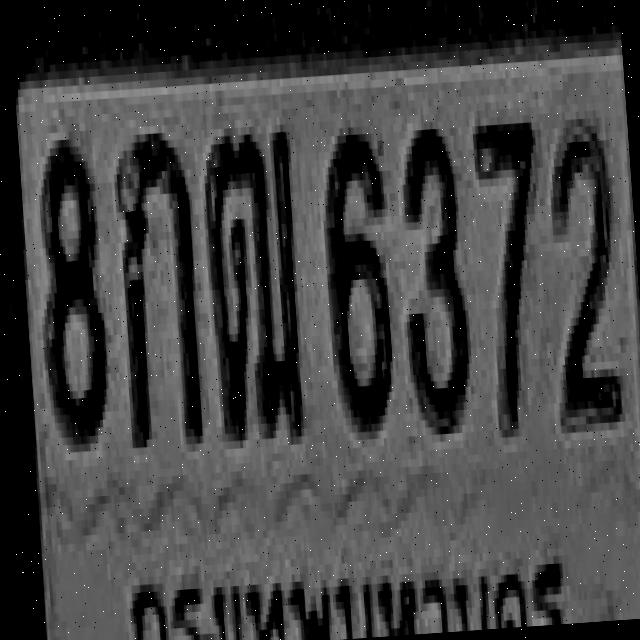10GorGai: (110, 124, 206, 448)
2: (542, 117, 625, 426)
27ThorPhuThao: (200, 124, 310, 442)
3: (392, 120, 472, 428)
6: (320, 125, 400, 433)
7: (472, 114, 554, 430)
8: (32, 134, 112, 442)
